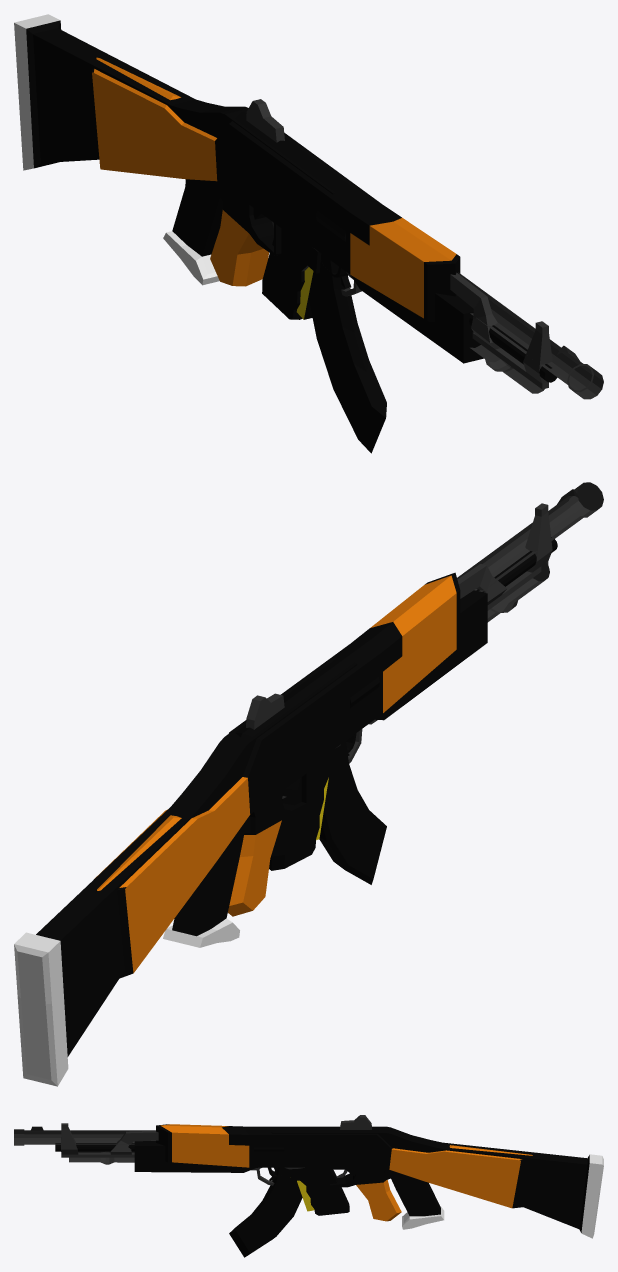
File: Weapons.fbx
The picture shows the model from 3 angles, top to bottom: view 1: azimuth 30°, elevation 25°; view 2: azimuth 150°, elevation 25°; view 3: azimuth 270°, elevation 25°; orthographic projection. The views are drawn at different scales.
Parts seen in each view (by area): view 1: Weapon_machine, Weapon_shotgun, Weapon_revolver, Weapon_gun; view 2: Weapon_machine, Weapon_shotgun, Weapon_revolver; view 3: Weapon_machine, Weapon_shotgun, Weapon_revolver, Weapon_gun.
Part boxes in pixels (x1=…): Weapon_machine: x1=92, y1=57, x2=557, y2=453; Weapon_shotgun: x1=14, y1=14, x2=603, y2=399; Weapon_revolver: x1=262, y1=210, x2=361, y2=319; Weapon_gun: x1=296, y1=259, x2=347, y2=319; Weapon_machine: x1=94, y1=503, x2=557, y2=978; Weapon_shotgun: x1=14, y1=482, x2=603, y2=1086; Weapon_revolver: x1=269, y1=676, x2=380, y2=870; Weapon_machine: x1=55, y1=1123, x2=533, y2=1257; Weapon_shotgun: x1=14, y1=1115, x2=603, y2=1238; Weapon_revolver: x1=251, y1=1147, x2=349, y2=1215; Weapon_gun: x1=268, y1=1167, x2=314, y2=1211.
Bounding box in the file's own units: 3.63 × 25.14 × 94.88.
